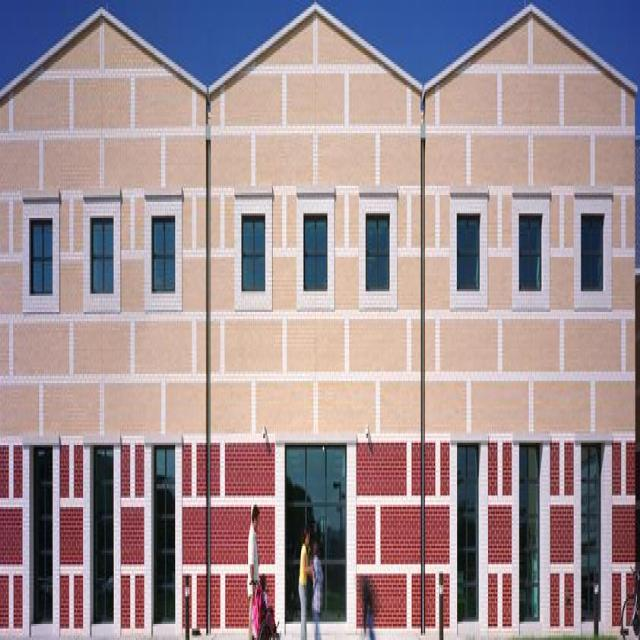window: (286, 442, 347, 629), (457, 444, 481, 619), (582, 445, 604, 619), (33, 441, 53, 627), (92, 437, 112, 623), (155, 441, 175, 627), (519, 442, 539, 617), (457, 220, 480, 289), (304, 219, 327, 288), (89, 217, 112, 285), (520, 221, 543, 289), (581, 219, 604, 287), (151, 219, 174, 287), (242, 218, 265, 286), (366, 219, 389, 287), (31, 221, 53, 290)
